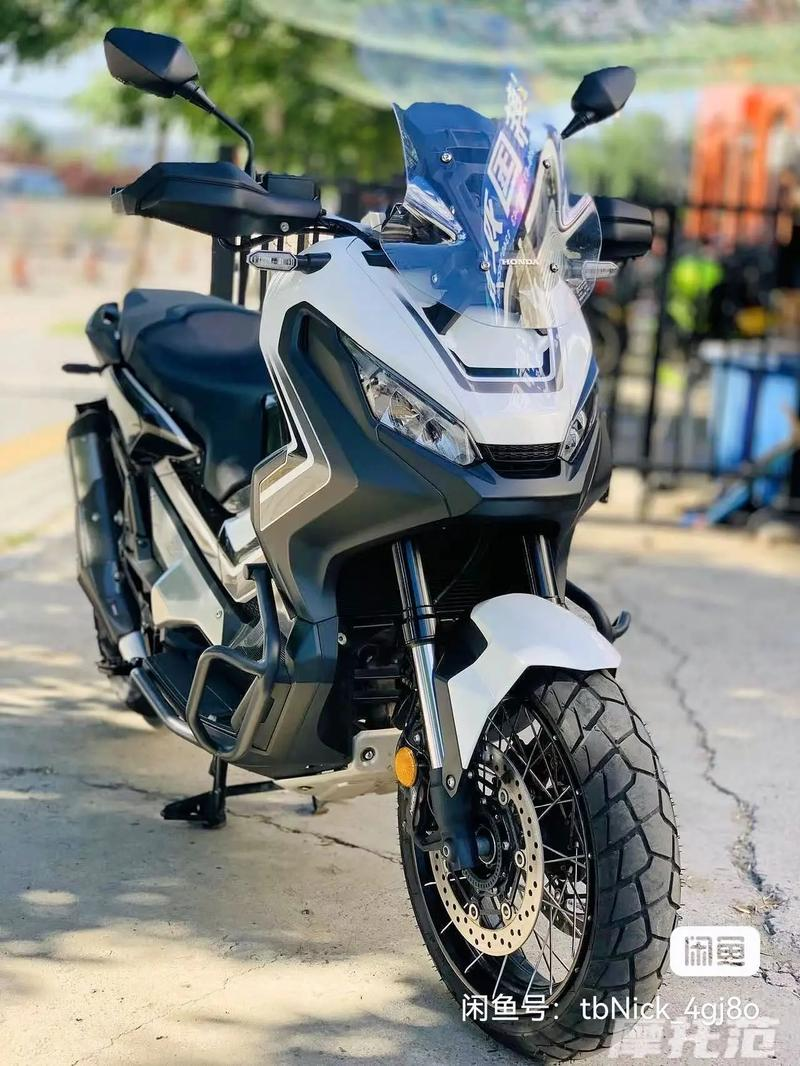摩托车: (39, 20, 691, 1058)
